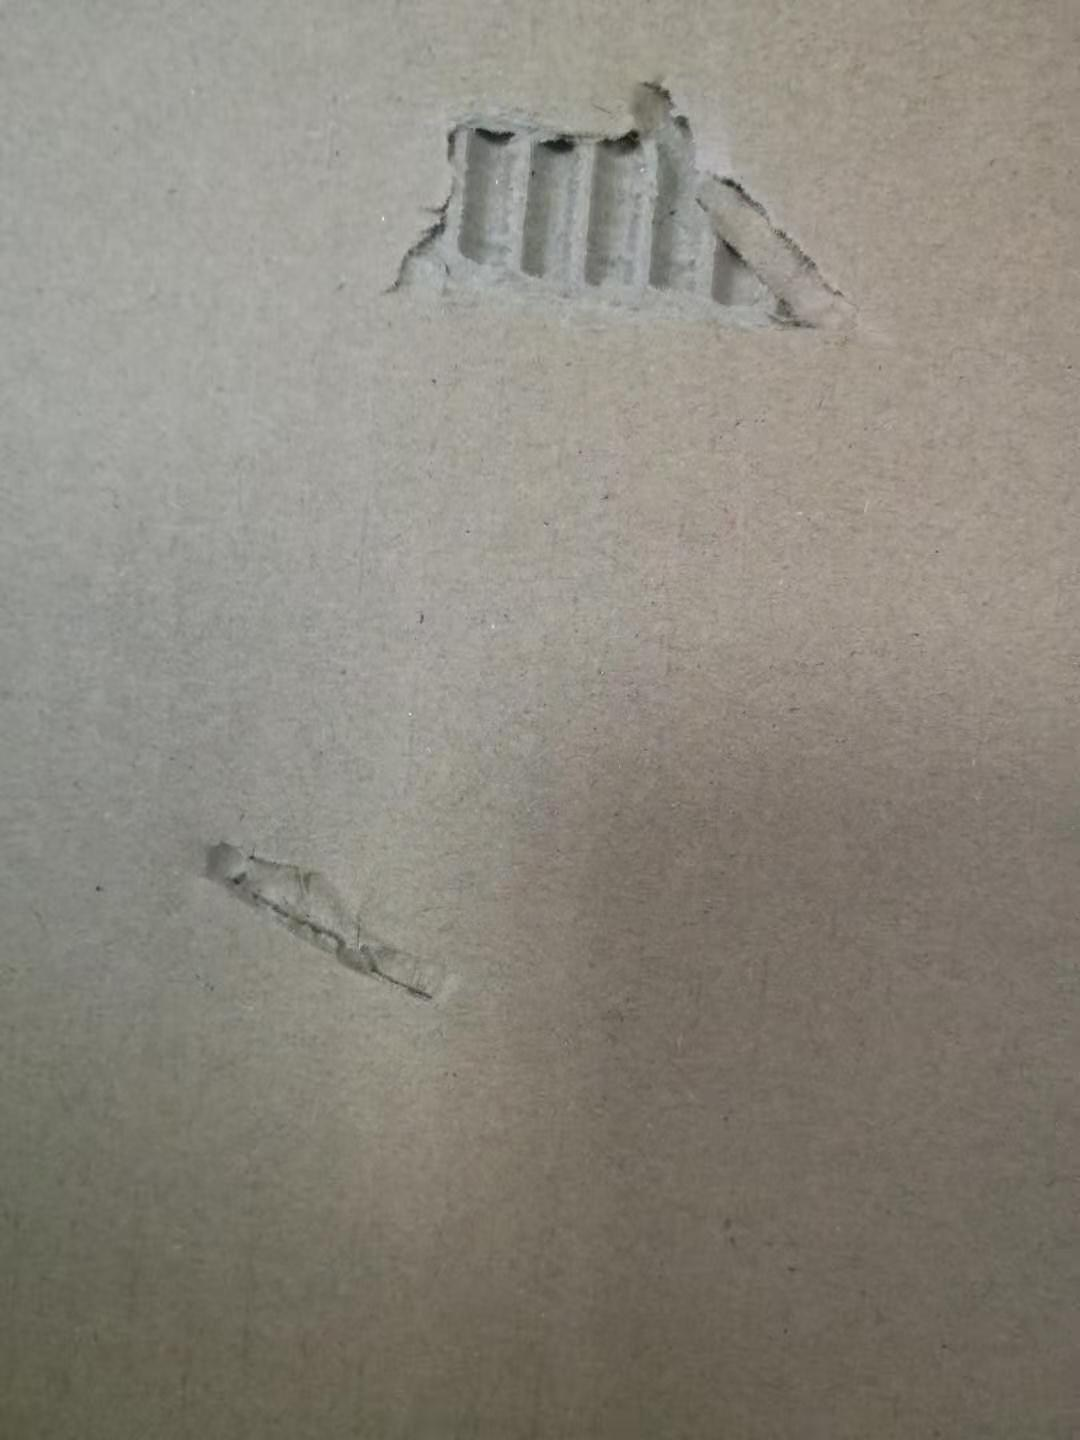defect: (355, 52, 911, 367), (172, 799, 476, 1033)
